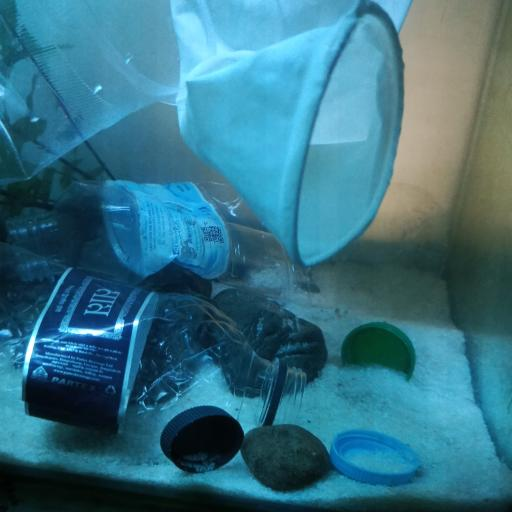bottle_cap: (160, 402, 246, 470), (329, 428, 423, 488), (339, 320, 416, 378)
glove: (170, 1, 410, 265)
plastic_bottle: (10, 180, 460, 314), (0, 244, 304, 440)
plastic_cup: (0, 0, 276, 192)
